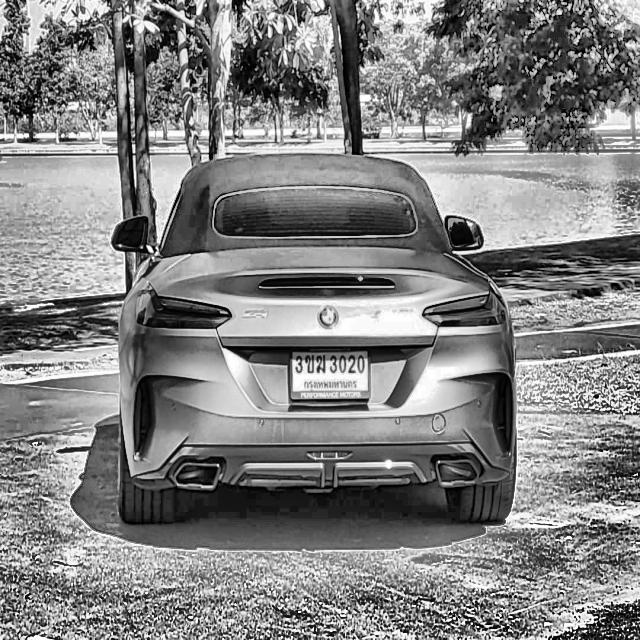license-plate: (288, 346, 372, 405)
